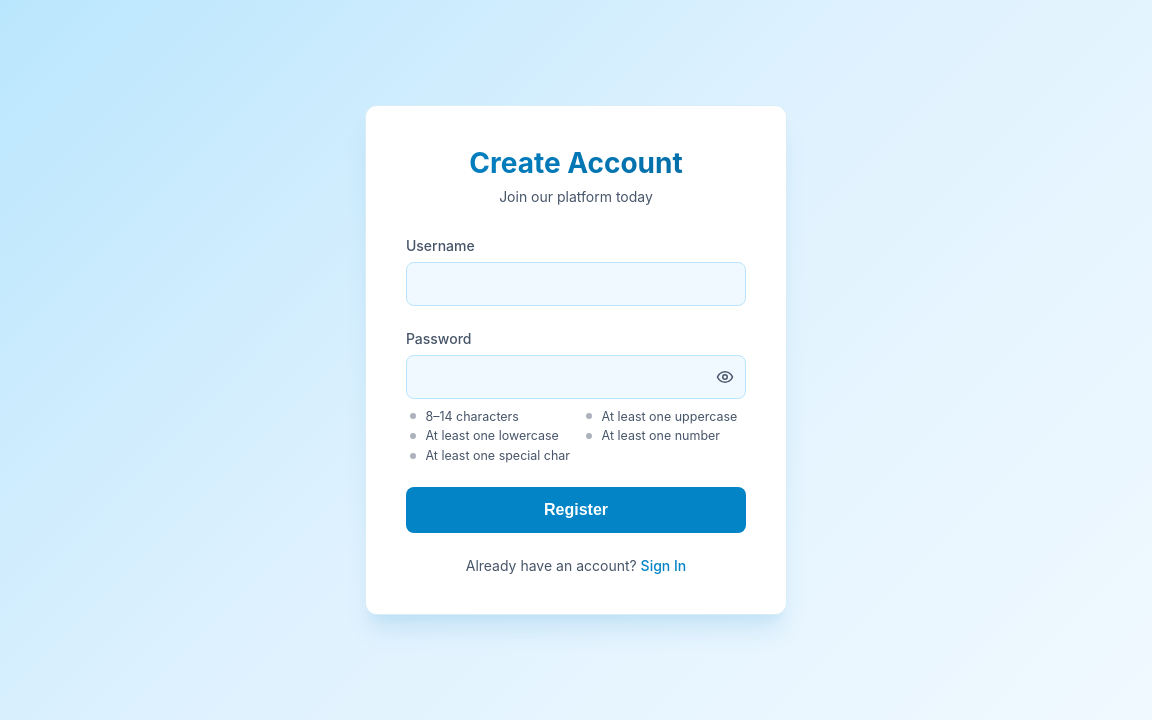
Test: Register page › shows server error on duplicate username
Type "taken" into the field labelled "Username" at x=576, y=284, box top-left (406, 262), bottom-right (746, 306)
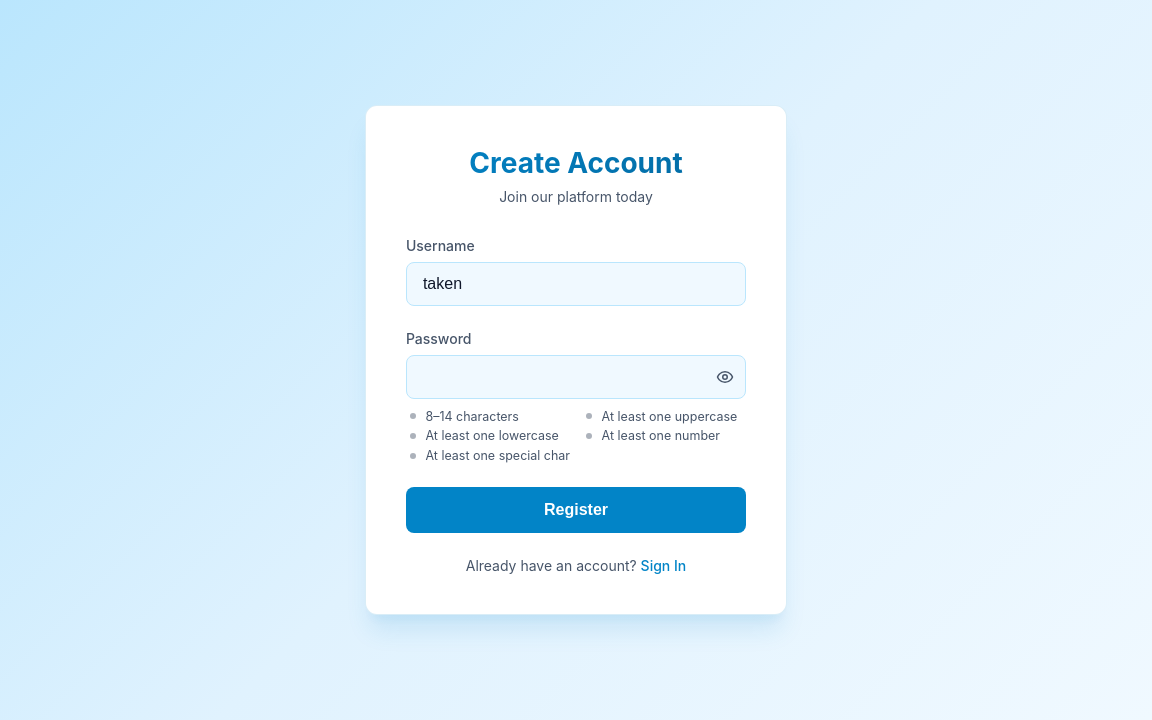
Type "Test@123" into the password field labelled "Password" at x=576, y=377, box top-left (406, 355), bottom-right (746, 399)
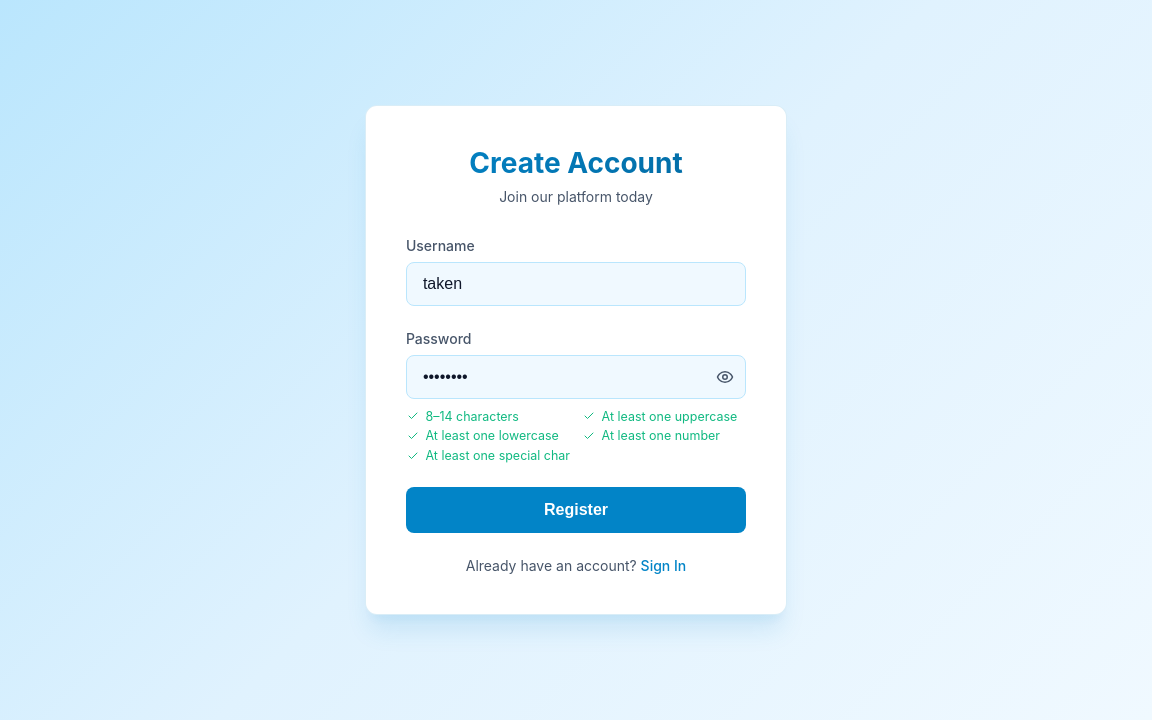
Click the button "Register" at x=576, y=510, box top-left (406, 487), bottom-right (746, 533)
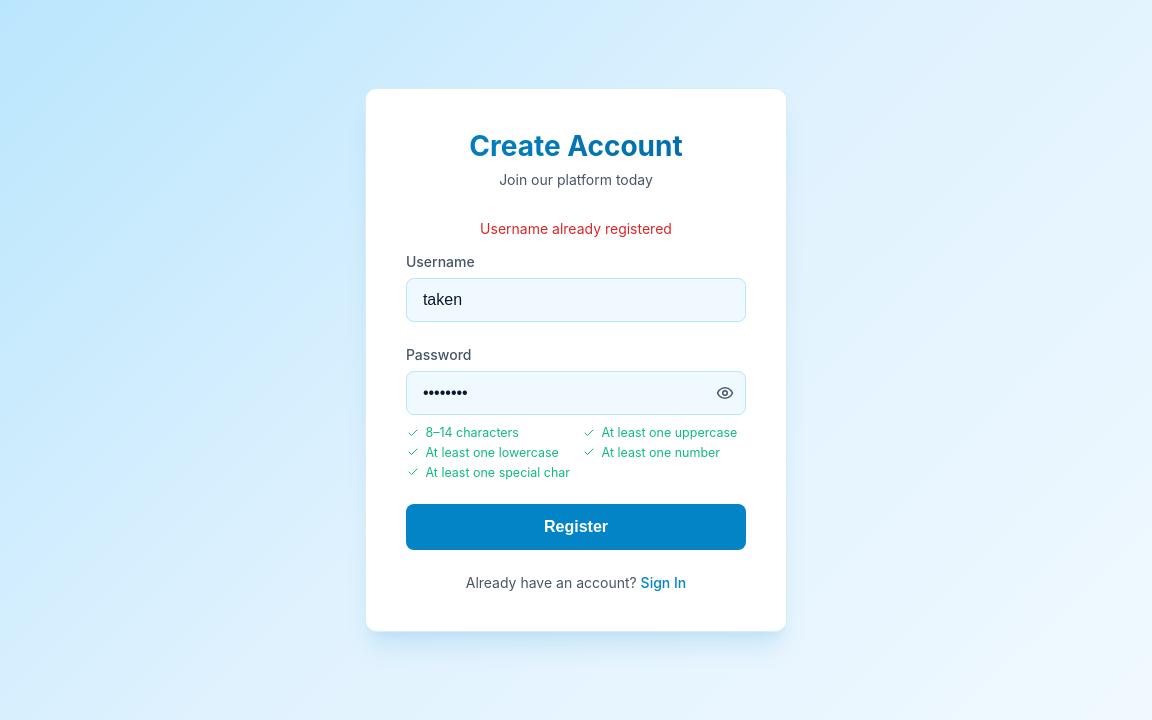
Expected: the text "Username already registered" is shown, top-left (480, 220), bottom-right (672, 237)
